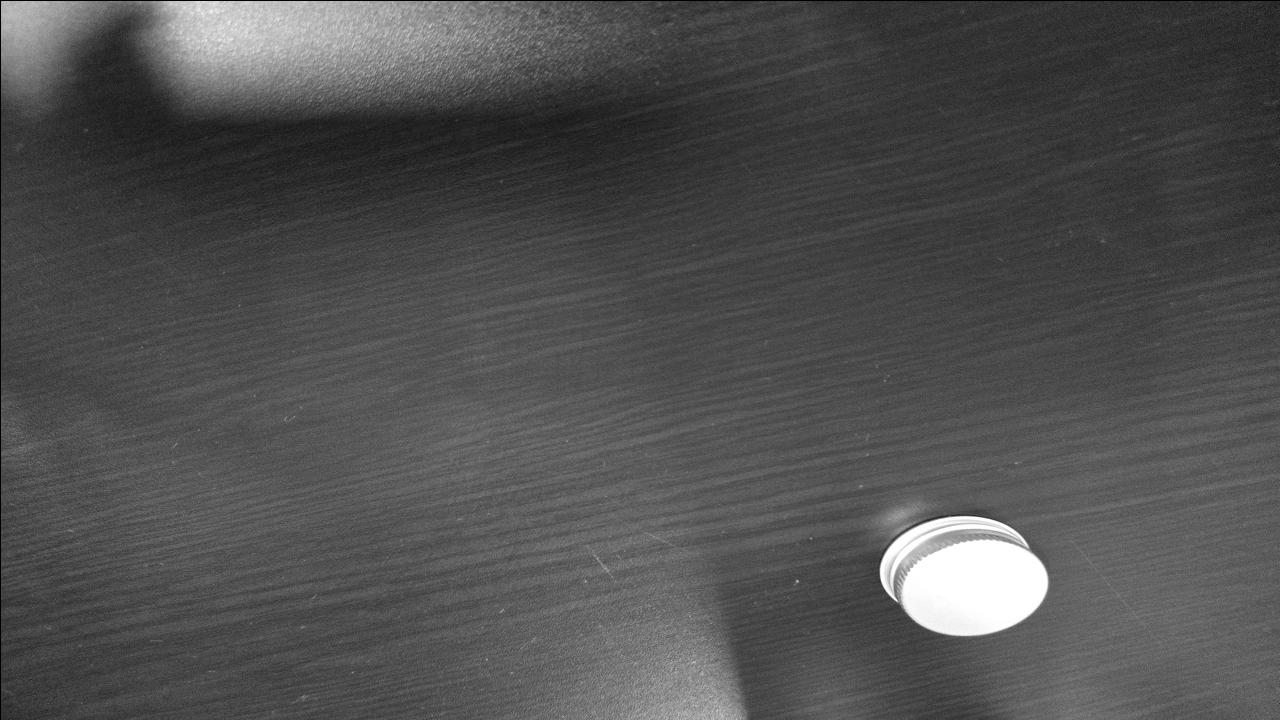bottle_cap: (869, 507, 1050, 638)
